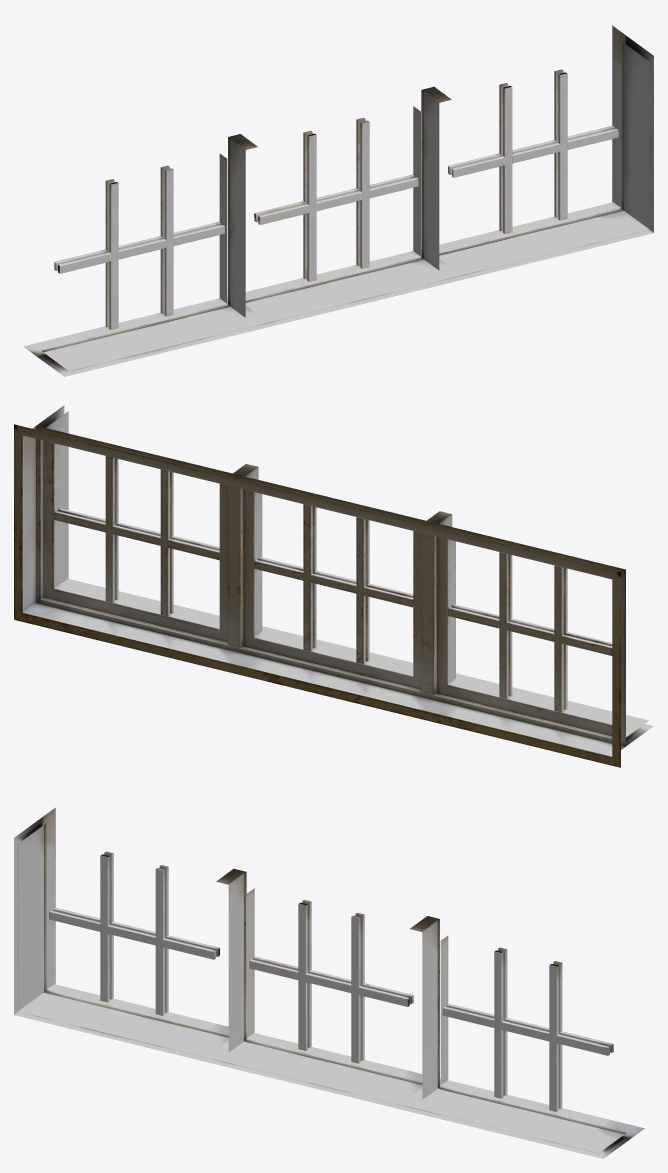
File: window.glb
3 views of the same model, one above another, from view 1: azimuth 30°, elevation 25°; view 2: azimuth 150°, elevation 25°; view 3: azimuth 330°, elevation 25° (orthographic).
Parts seen in each view (by area): view 1: body; view 2: body; view 3: body.
Part boxes in pixels (box(x1,y1,x2,y2)): body: box(23, 25, 653, 376); body: box(14, 405, 653, 767); body: box(14, 807, 644, 1158).
Size of the model in its own units: 2.42 by 0.7446 by 0.288.
Materials: 1 (1 with a texture image).
